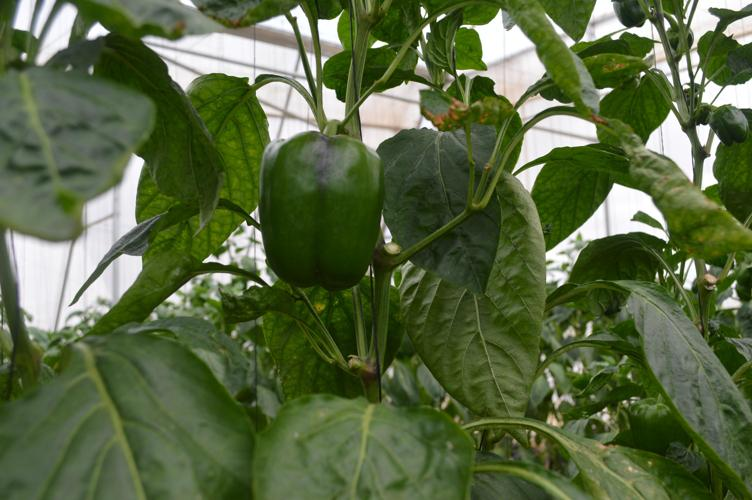BellPepper: (254, 129, 380, 299)
